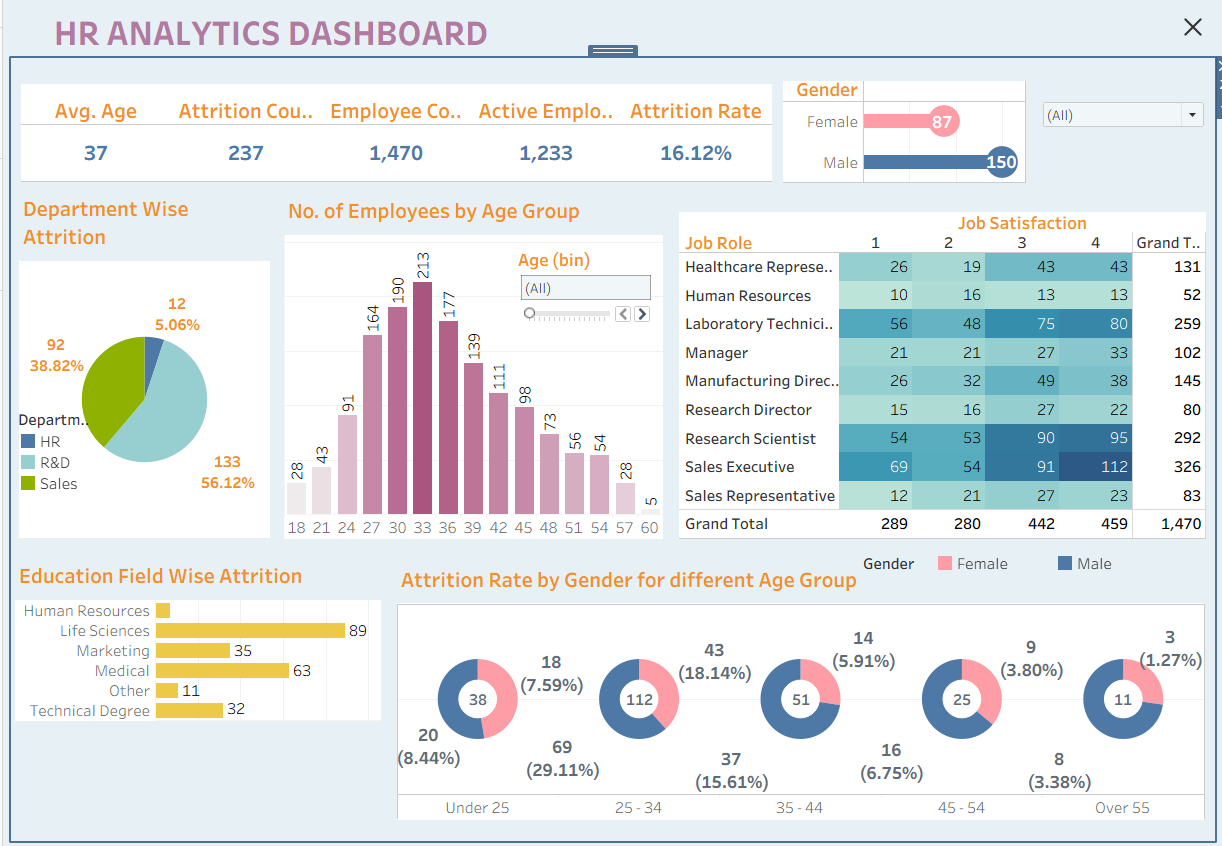

What the dashboard file says about the page in this screenshot:
{"tool":"tableau","page":{"name":"HR ANALYTICS DASHBOARD","canvas":[1000,1000],"units":"permille","ordinal":0},"visuals":[{"type":"title","box":[6.6,9.4,986.9,62.2]},{"type":"dashboard-object","box":[964.9,14.3,21.1,42.9]},{"type":"worksheet","title":"Attrition by Gender","mark":"Automatic","rows":["Gender"],"cols":["Calculation_236720521465462784","Calculation_236720521465462784"],"box":[639.2,98.2,199.3,119.6]},{"type":"worksheet","title":"KPI","mark":"Automatic","box":[14.9,101.8,615.5,116.1]},{"type":"filter","title":"KPI","param":"[federated.1xwahrw1fiy4mc19div210v3x4l3].[none:Education:nk]","box":[849.9,119.6,137,67.9]},{"type":"worksheet","title":"Department Wise Attrition","mark":"Pie","box":[13.2,226.8,205.4,408.9]},{"type":"worksheet","title":"No. of Employees by Age Group","mark":"Automatic","rows":["Employee Count"],"cols":["Age (bin)"],"box":[230,228.6,310.8,407.1]},{"type":"worksheet","title":"Job Satisfaction Rating","mark":"Square","rows":["Job Role"],"cols":["Job Satisfaction"],"box":[554,251.8,432,383.9]},{"type":"filter","title":"No. of Employees by Age Group","param":"[federated.1xwahrw1fiy4mc19div210v3x4l3].[none:Age (bin):ok]","box":[422.3,292.9,111.5,133.9]},{"type":"legend","title":"Department Wise Attrition","param":"[federated.1xwahrw1fiy4mc19div210v3x4l3].[none:Department:nk]","box":[12.3,483.9,59.7,142.9]},{"type":"legend","title":"Attrition Rate by Gender for different Age Group","param":"[federated.1xwahrw1fiy4mc19div210v3x4l3].[none:Gender:nk]","box":[704.9,652.6,268,48.1]},{"type":"worksheet","title":"Education Field Wise Attrition","mark":"Automatic","rows":["Education Field"],"cols":["Calculation_236720521465462784"],"box":[9.8,657.1,300,310.7]},{"type":"worksheet","title":"Attrition Rate by Gender for different Age Group","mark":"Pie","rows":["Calculation_236720521539293194","Calculation_236720521539448844"],"cols":["CF_age band"],"box":[322.9,662.5,662.3,303.6]}]}

Visuals, with their boxes on the dashboard's canvas, which has no fixed pixel size, in thousandths of its width and height (x1, y1, x2, y2). These are canvas units, not pixel positions in the 1222x846 screenshot, which may show the page scaled, cropped or inside an application window:
title: [x1=7, y1=9, x2=994, y2=72]
dashboard-object: [x1=965, y1=14, x2=986, y2=57]
"Attrition by Gender" worksheet: [x1=639, y1=98, x2=838, y2=218]
"KPI" worksheet: [x1=15, y1=102, x2=630, y2=218]
"KPI" filter: [x1=850, y1=120, x2=987, y2=188]
"Department Wise Attrition" worksheet (Pie marks): [x1=13, y1=227, x2=219, y2=636]
"No. of Employees by Age Group" worksheet: [x1=230, y1=229, x2=541, y2=636]
"Job Satisfaction Rating" worksheet (Square marks): [x1=554, y1=252, x2=986, y2=636]
"No. of Employees by Age Group" filter: [x1=422, y1=293, x2=534, y2=427]
"Department Wise Attrition" legend: [x1=12, y1=484, x2=72, y2=627]
"Attrition Rate by Gender for different Age Group" legend: [x1=705, y1=653, x2=973, y2=701]
"Education Field Wise Attrition" worksheet: [x1=10, y1=657, x2=310, y2=968]
"Attrition Rate by Gender for different Age Group" worksheet (Pie marks): [x1=323, y1=662, x2=985, y2=966]
